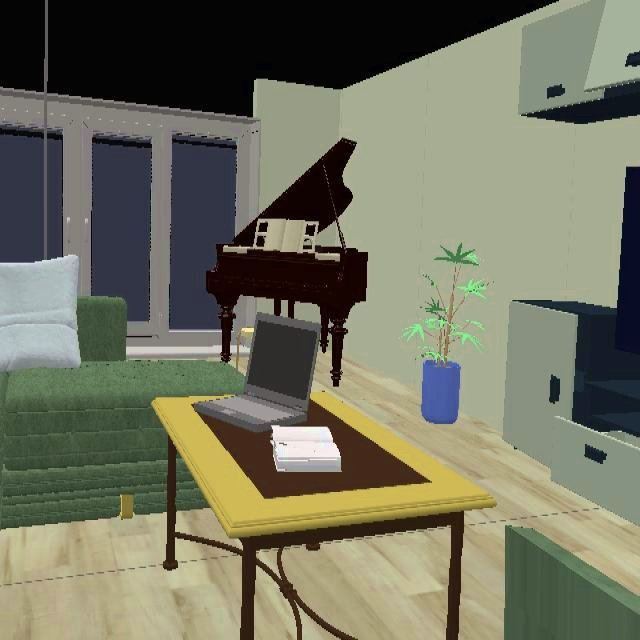book: (267, 424, 344, 476)
cabinet: (503, 300, 640, 528), (518, 0, 640, 124)
laptop: (198, 315, 320, 432)
monitor: (613, 165, 640, 357)
pillow: (0, 255, 82, 379)
sofa: (0, 296, 246, 531)
table: (151, 396, 495, 640)
